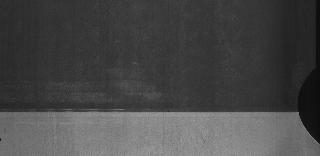punching hole: (0, 135, 2, 143)
welding line: (0, 106, 306, 122)
